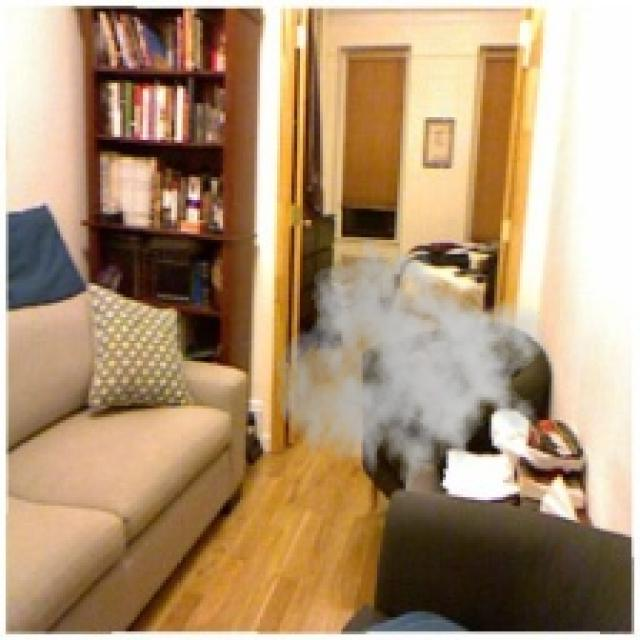smoke: (274, 234, 549, 503)
